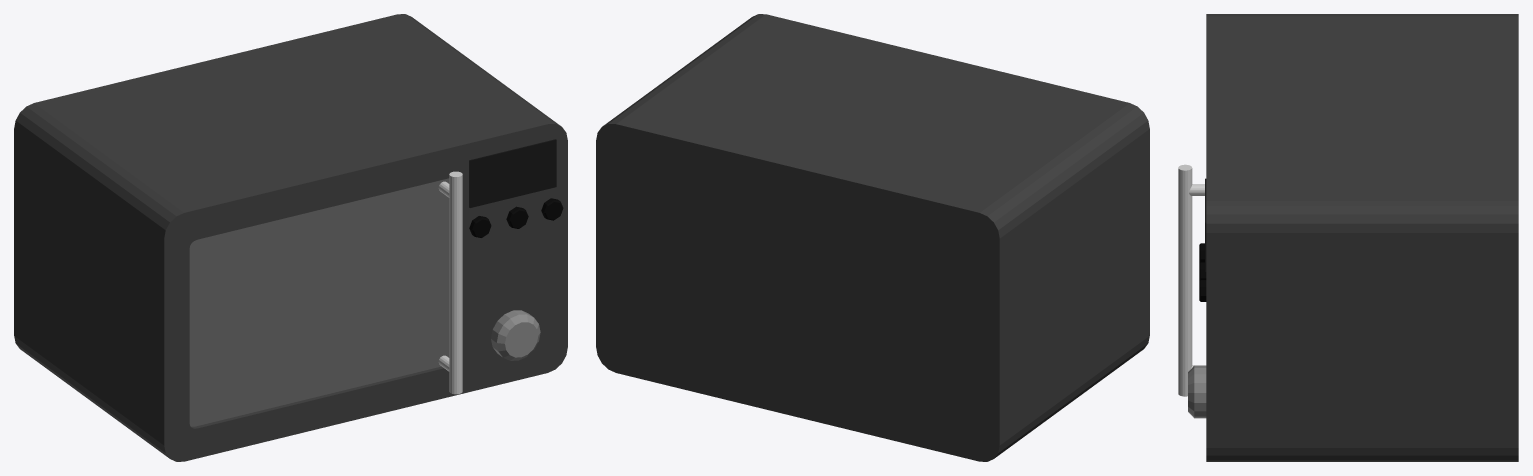
Rendered from Prop_Microwave_02.fbx.
3 views of the same model, side by side, from view 1: azimuth 30°, elevation 25°; view 2: azimuth 150°, elevation 25°; view 3: azimuth 270°, elevation 25° (orthographic). The views are drawn at different scales.
Parts seen in each view (by area): view 1: Prop_Microwave_02; view 2: Prop_Microwave_02; view 3: Prop_Microwave_02.
Boxes of the visible parts, left/top/right/bottom form: Prop_Microwave_02: left=14, top=14, right=567, bottom=461; Prop_Microwave_02: left=596, top=14, right=1149, bottom=461; Prop_Microwave_02: left=1178, top=14, right=1518, bottom=461.
Size of the model in its own units: 51.39 by 30.27 by 36.08.
